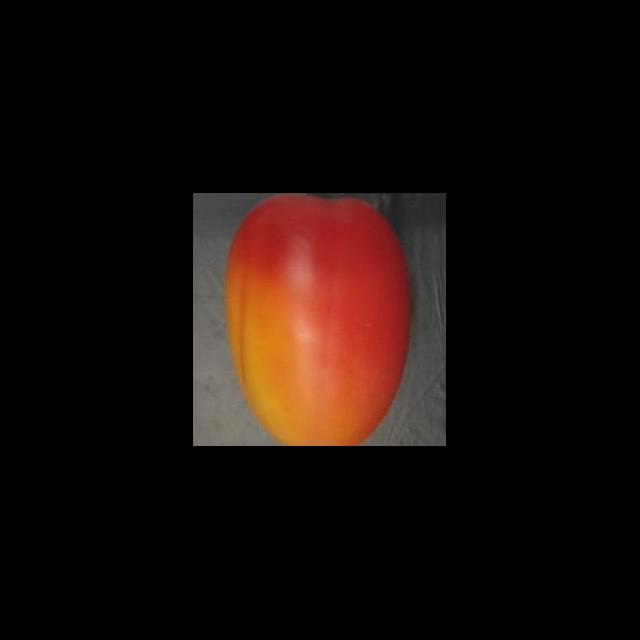tomato: (218, 194, 412, 446)
